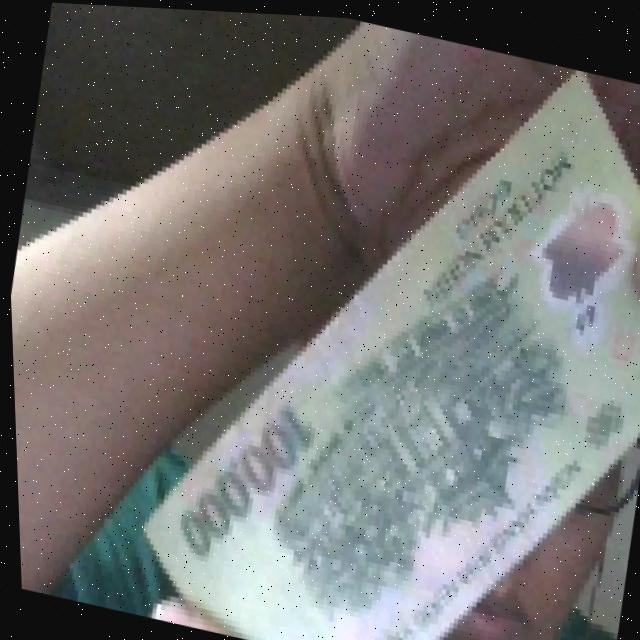100 000 VND: (105, 4, 640, 640)
